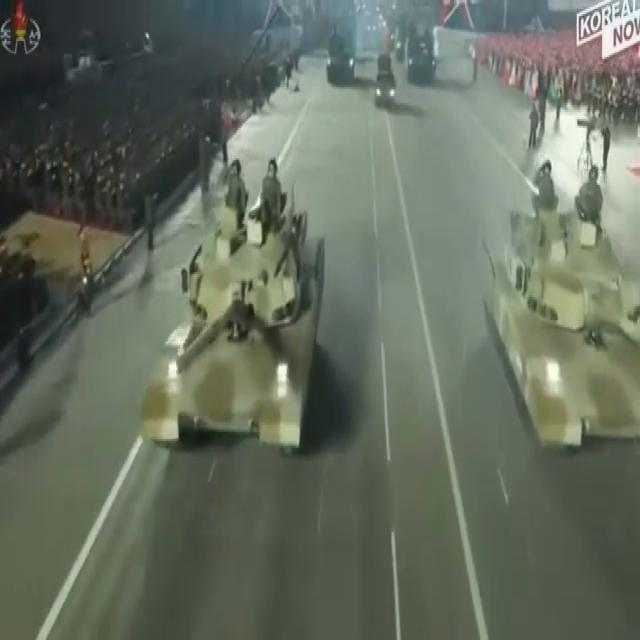north tank: (128, 142, 332, 503), (469, 149, 640, 535)
